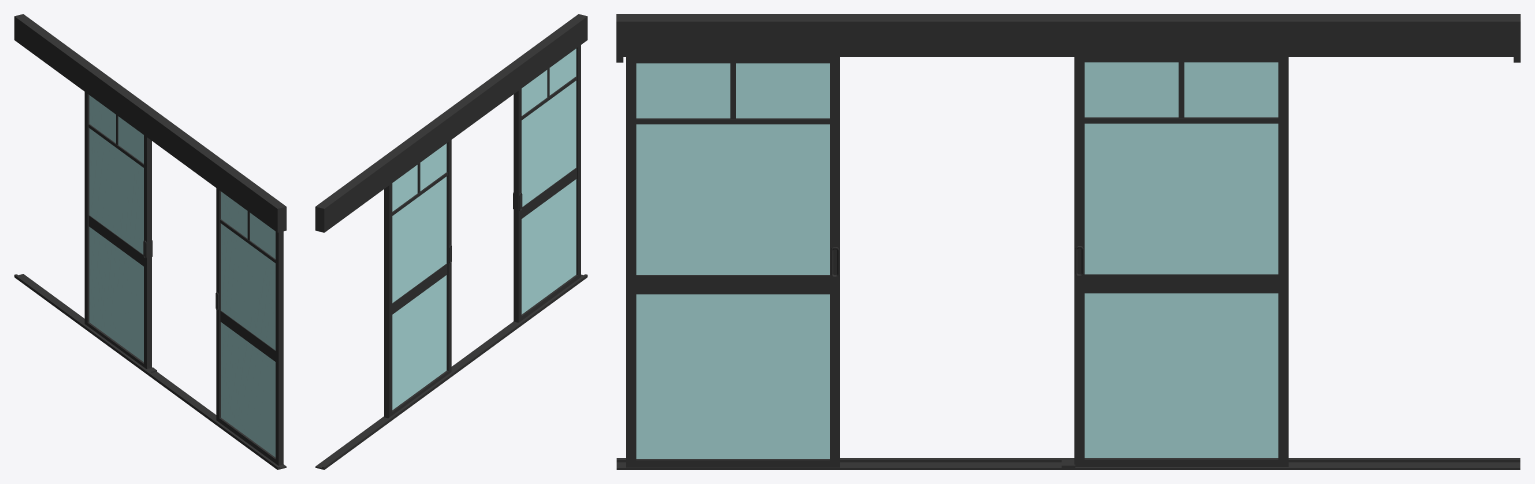
The model's file is SM_BathDoors_01.fbx.
3 views of the same model, side by side, from view 1: azimuth 30°, elevation 25°; view 2: azimuth 150°, elevation 25°; view 3: azimuth 270°, elevation 25° (orthographic). The views are drawn at different scales.
Parts seen in each view (by area): view 1: SM_BathDoors_01_LOD0; view 2: SM_BathDoors_01_LOD0; view 3: SM_BathDoors_01_LOD0.
Boxes of the visible parts, x1,y1,x2,y2 form: SM_BathDoors_01_LOD0: (14, 14, 286, 469); SM_BathDoors_01_LOD0: (315, 14, 587, 469); SM_BathDoors_01_LOD0: (616, 14, 1520, 469).
Bounding box in the file's own units: 10.83 × 500 × 274.
